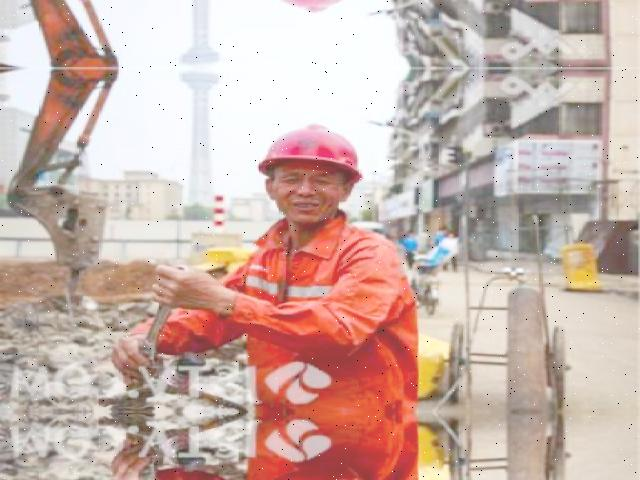Helmet: (250, 117, 370, 188)
